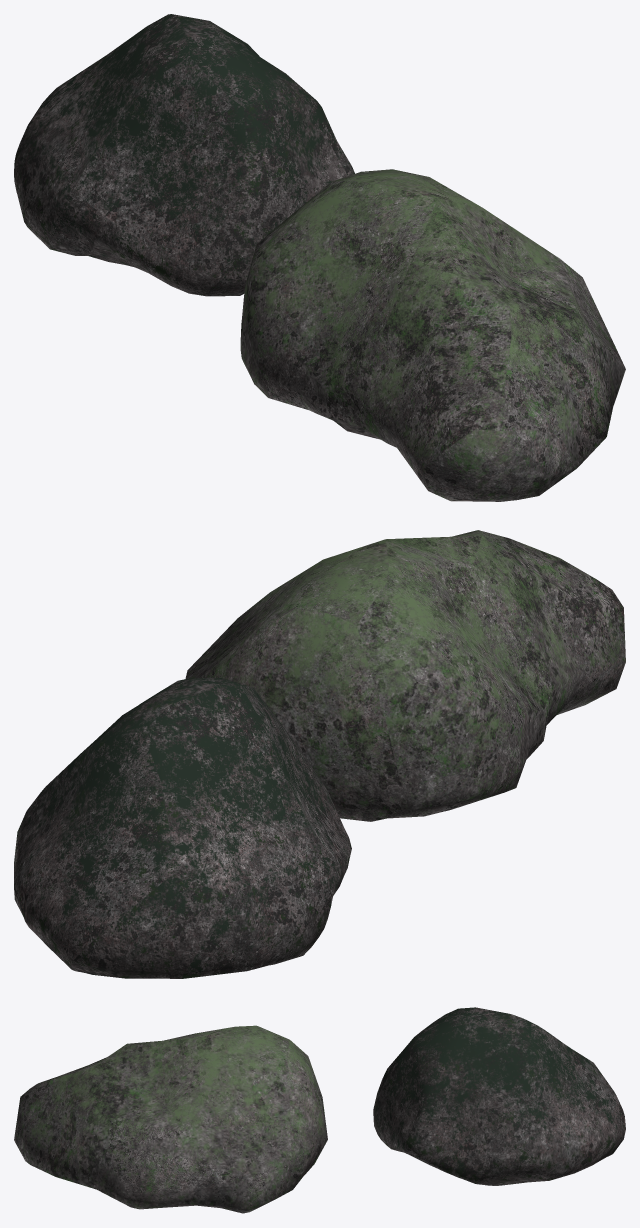
File: mossy_stone.glb
3 renders of one model, top to bottom at view 1: azimuth 30°, elevation 25°; view 2: azimuth 150°, elevation 25°; view 3: azimuth 270°, elevation 25°, orthographic. The views are drawn at different scales.
Parts seen in each view (by area): view 1: stone2_low, stone1_low; view 2: stone2_low, stone1_low; view 3: stone2_low, stone1_low.
Boxes of the visible parts, x1,y1,x2,y2 form: stone2_low: [240, 169, 625, 501]; stone1_low: [14, 14, 354, 296]; stone2_low: [185, 530, 625, 821]; stone1_low: [14, 677, 351, 978]; stone2_low: [14, 1025, 327, 1213]; stone1_low: [373, 1007, 625, 1185].
Bounding box in the file's own units: 2.93 × 2.06 × 7.14.
2 materials, 2 textured.
